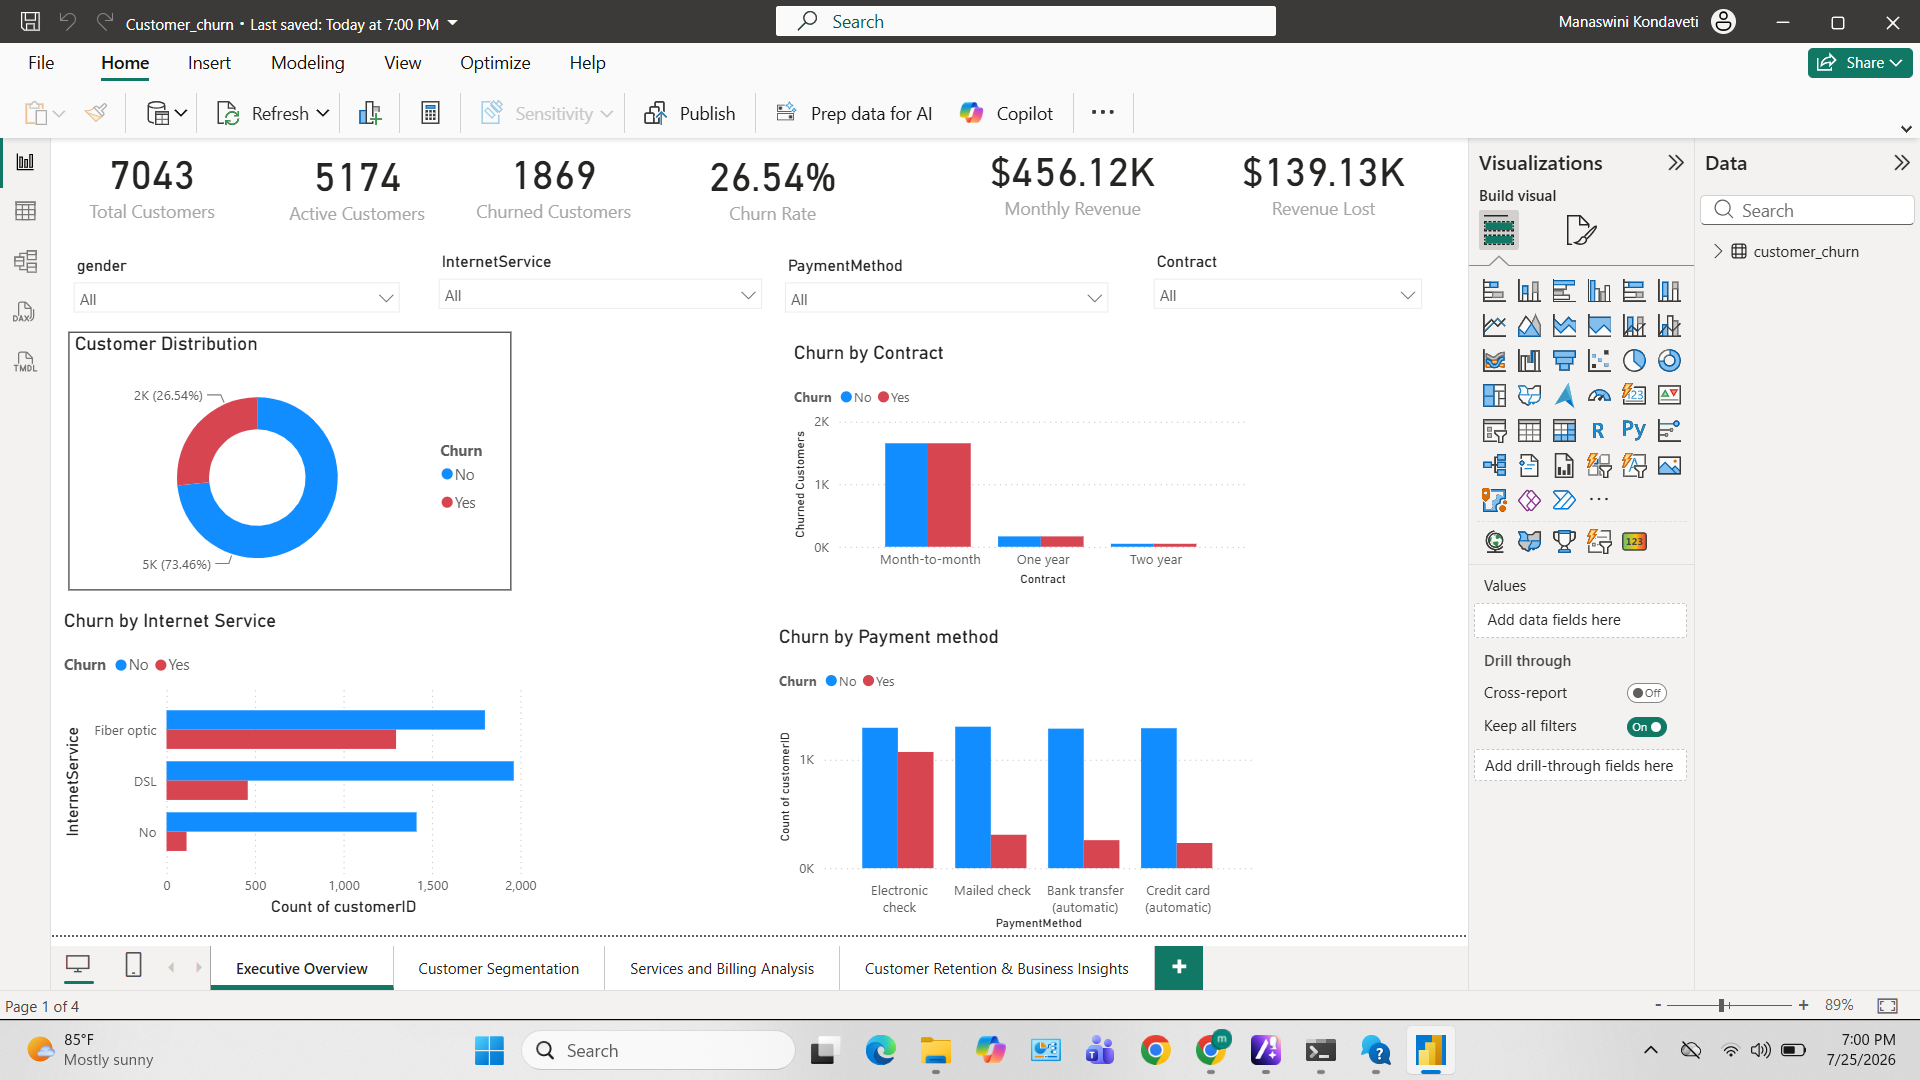

The page's visual inventory and layout, read from the dashboard file:
{"tool":"powerbi","page":{"name":"Executive Overview","canvas":[1280,720],"ordinal":0},"visuals":[{"type":"PBI_CV_7B952816_A48F_49B4_9E13_15E3BB2C0337","fields":{"Values":["customer_churn.Total Customers"]},"box":[0,0,183.8,88.8],"z":0},{"type":"PBI_CV_7B952816_A48F_49B4_9E13_15E3BB2C0337","fields":{"Values":["customer_churn.Active Customers"]},"box":[183.8,0,185,88.8],"z":1000},{"type":"PBI_CV_7B952816_A48F_49B4_9E13_15E3BB2C0337","fields":{"Values":["customer_churn.Churned Customers"]},"box":[368.8,0,170,88.8],"z":2000},{"type":"PBI_CV_7B952816_A48F_49B4_9E13_15E3BB2C0337","fields":{"Values":["customer_churn.Churn Rate"]},"box":[538.8,0,227.5,88.8],"z":3000},{"type":"PBI_CV_7B952816_A48F_49B4_9E13_15E3BB2C0337","fields":{"Values":["customer_churn.Monthly Revenue"]},"box":[795,0,256.2,83.8],"z":4000},{"type":"PBI_CV_7B952816_A48F_49B4_9E13_15E3BB2C0337","fields":{"Values":["customer_churn.Revenue Lost"]},"box":[1021.2,0,258.8,83.8],"z":5000},{"type":"donutChart","title":"Customer Distribution","fields":{"Category":["customer_churn.Churn"],"Y":["customer_churn.Total Customers"]},"box":[16.2,175,400,233.8],"z":6000},{"type":"clusteredColumnChart","title":"Churn by Contract","fields":{"Category":["customer_churn.Contract"],"Series":["customer_churn.Churn"],"Y":["customer_churn.Churned Customers"]},"box":[666.2,183.8,418.8,225],"z":7000},{"type":"clusteredBarChart","title":"Churn by Internet Service","fields":{"Category":["customer_churn.InternetService"],"Series":["customer_churn.Churn"],"Y":["CountNonNull(customer_churn.customerID)"]},"box":[6.2,426.2,437.5,281.2],"z":8000},{"type":"clusteredColumnChart","title":"Churn by Payment method","fields":{"Category":["customer_churn.PaymentMethod"],"Series":["customer_churn.Churn"],"Y":["CountNonNull(customer_churn.customerID)"]},"box":[652.5,440,438,280],"z":9000},{"type":"slicer","fields":{"Values":["customer_churn.gender"]},"box":[10,101.2,315,63.8],"z":10000},{"type":"slicer","fields":{"Values":["customer_churn.InternetService"]},"box":[340,98.8,312.5,75],"z":11000},{"type":"slicer","fields":{"Values":["customer_churn.PaymentMethod"]},"box":[652.5,101.2,312.5,63.8],"z":12000},{"type":"slicer","fields":{"Values":["customer_churn.Contract"]},"box":[986.2,98.8,262.5,58.8],"z":13000}]}

Visuals, with their boxes on the page's 1280x720 design canvas (x1, y1, x2, y2). These are canvas units, not pixel positions in the 1920x1080 screenshot, which may show the page scaled, cropped or inside an application window:
PBI_CV_7B952816_A48F_49B4_9E13_15E3BB2C0337 - customer_churn.Total Customers: locate(0, 0, 184, 89)
PBI_CV_7B952816_A48F_49B4_9E13_15E3BB2C0337 - customer_churn.Active Customers: locate(184, 0, 369, 89)
PBI_CV_7B952816_A48F_49B4_9E13_15E3BB2C0337 - customer_churn.Churned Customers: locate(369, 0, 539, 89)
PBI_CV_7B952816_A48F_49B4_9E13_15E3BB2C0337 - customer_churn.Churn Rate: locate(539, 0, 766, 89)
PBI_CV_7B952816_A48F_49B4_9E13_15E3BB2C0337 - customer_churn.Monthly Revenue: locate(795, 0, 1051, 84)
PBI_CV_7B952816_A48F_49B4_9E13_15E3BB2C0337 - customer_churn.Revenue Lost: locate(1021, 0, 1280, 84)
"Customer Distribution" donutChart: locate(16, 175, 416, 409)
"Churn by Contract" clusteredColumnChart: locate(666, 184, 1085, 409)
"Churn by Internet Service" clusteredBarChart: locate(6, 426, 444, 707)
"Churn by Payment method" clusteredColumnChart: locate(652, 440, 1090, 720)
slicer - customer_churn.gender: locate(10, 101, 325, 165)
slicer - customer_churn.InternetService: locate(340, 99, 652, 174)
slicer - customer_churn.PaymentMethod: locate(652, 101, 965, 165)
slicer - customer_churn.Contract: locate(986, 99, 1249, 158)
